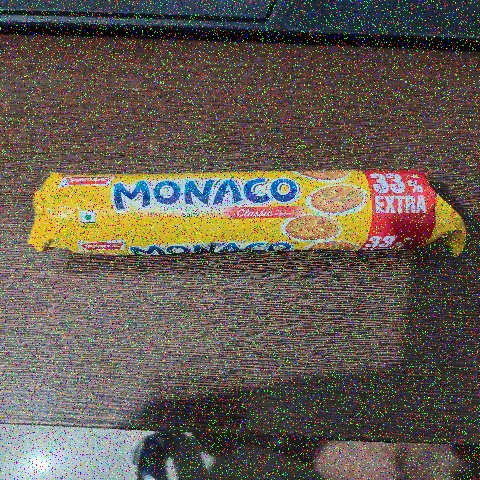monaco: (14, 128, 480, 285)
